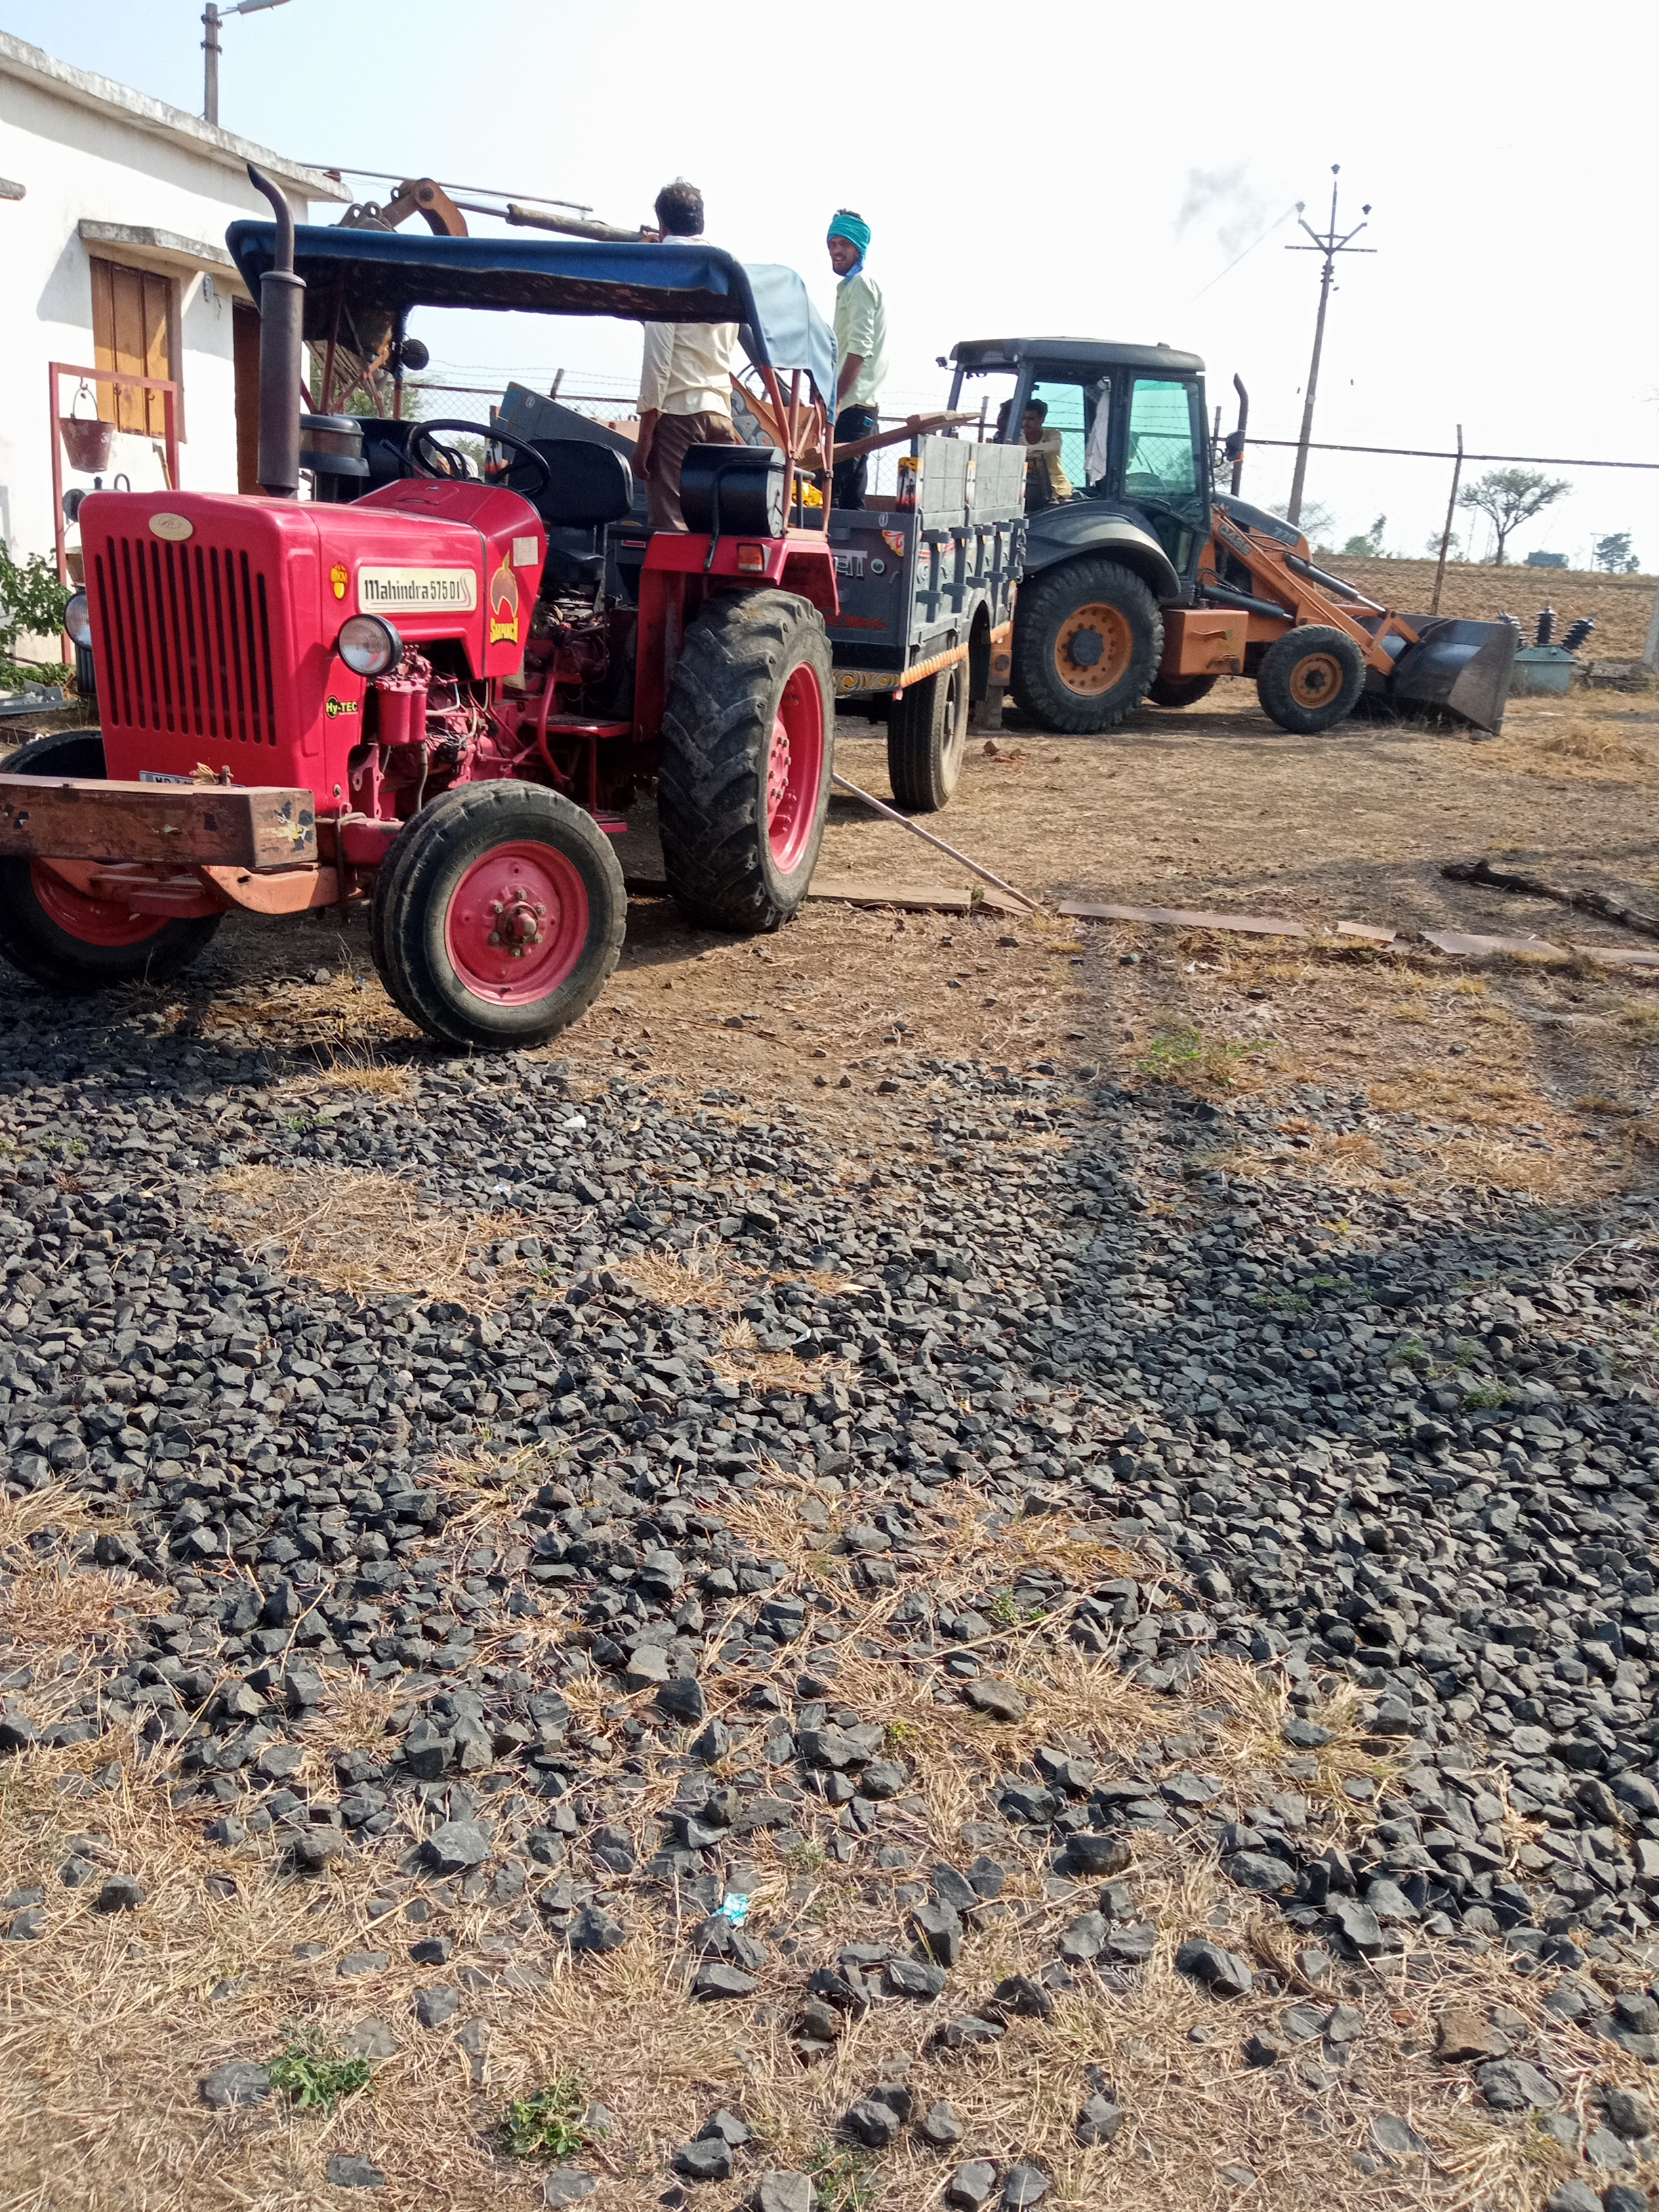tractor: (0, 155, 1032, 1055)
